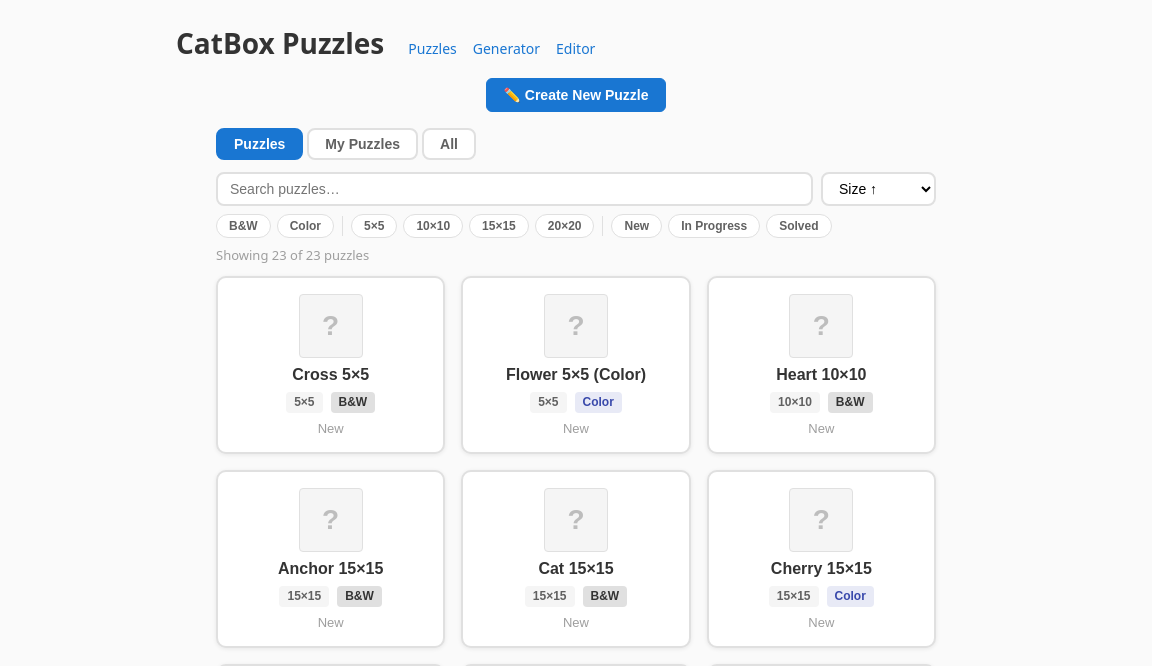
it: Navigation › clicking a puzzle card navigates to game page
Click the button "? Cross 5×5 5×5 B&W New" at (331, 365), box [218,278,443,452]
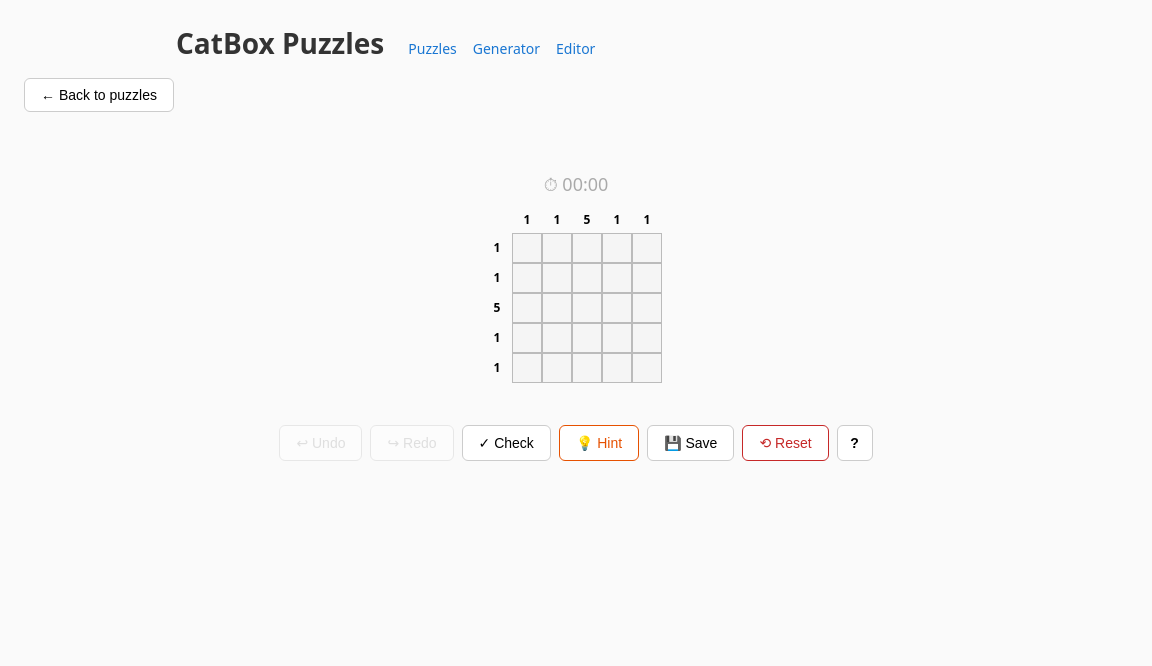
Check: the table named "puzzle grid" is shown, box [494,211,662,383]
